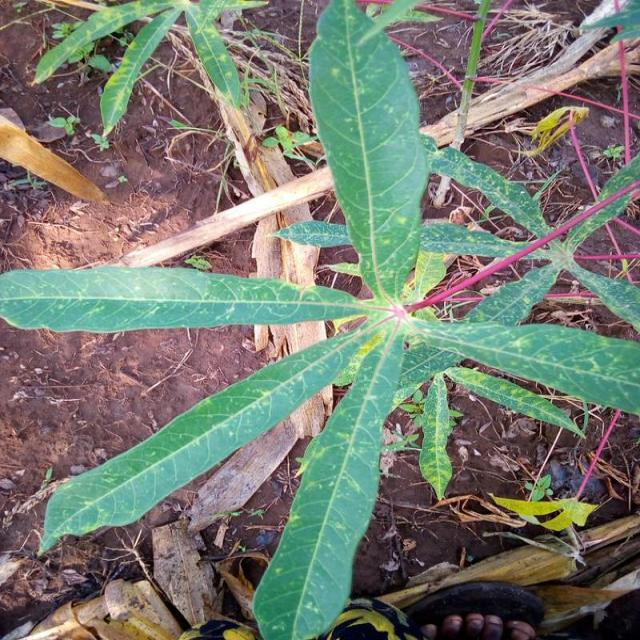cassava leaf: (1, 1, 638, 637), (37, 321, 370, 557), (251, 316, 405, 638), (306, 0, 429, 304)
